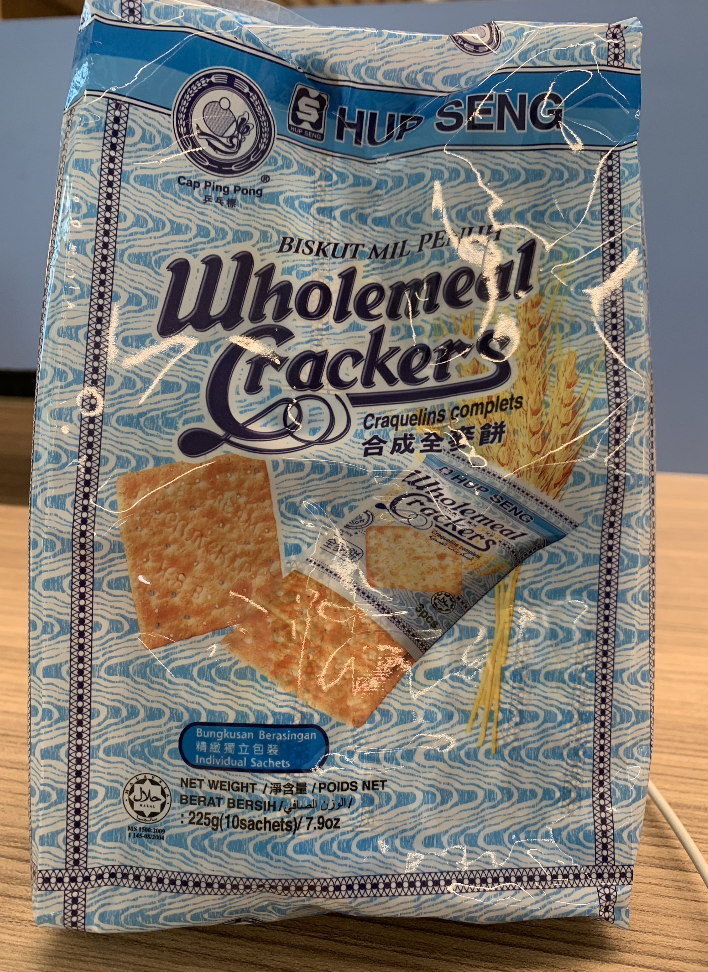crackers_150g: (110, 50, 617, 871)
